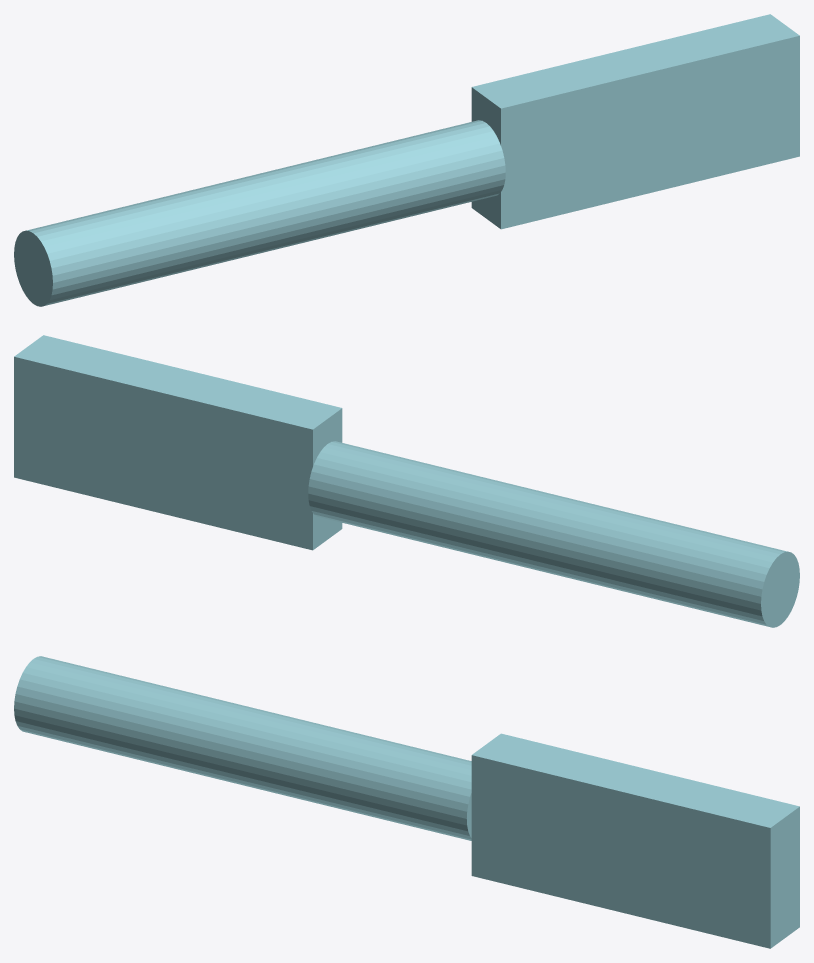
Rendered from cylinder_spatula_v6009.obj.
3 renders of one model, top to bottom at view 1: azimuth 30°, elevation 25°; view 2: azimuth 150°, elevation 25°; view 3: azimuth 330°, elevation 25°, orthographic.
Size of the model in its own units: 0.3099 by 0.0476 by 0.0279.
1 material, 1 textured.
